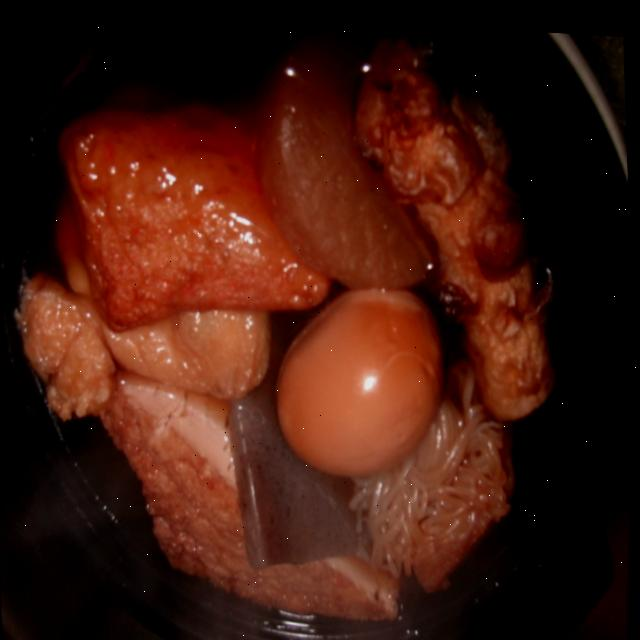汤锅炖物: (0, 0, 573, 634)
